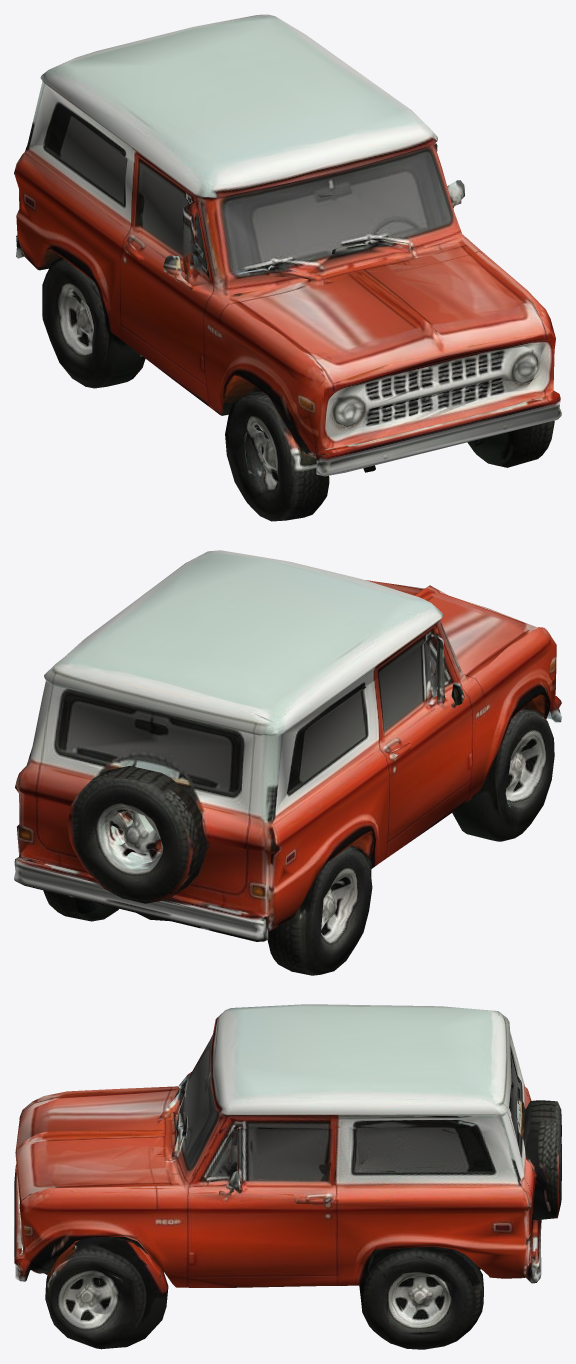
The model's file is bronco_66.glb.
3 views of the same model, one above another, from view 1: azimuth 30°, elevation 25°; view 2: azimuth 150°, elevation 25°; view 3: azimuth 270°, elevation 25° (orthographic). The views are drawn at different scales.
Parts seen in each view (by area): view 1: textured; view 2: textured; view 3: textured.
Part boxes in pixels (box(x1,y1,x2,y2)): textured: box(14, 14, 561, 521); textured: box(14, 550, 561, 975); textured: box(14, 1004, 561, 1349).
Size of the model in its own units: 1.09 by 1.01 by 1.99.
Materials: 1 (1 with a texture image).
